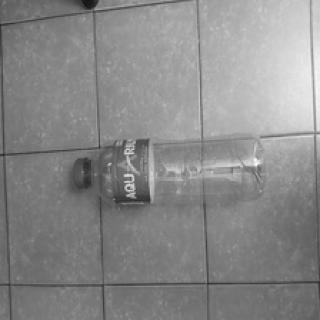plastic_bottles: (67, 133, 270, 210)
